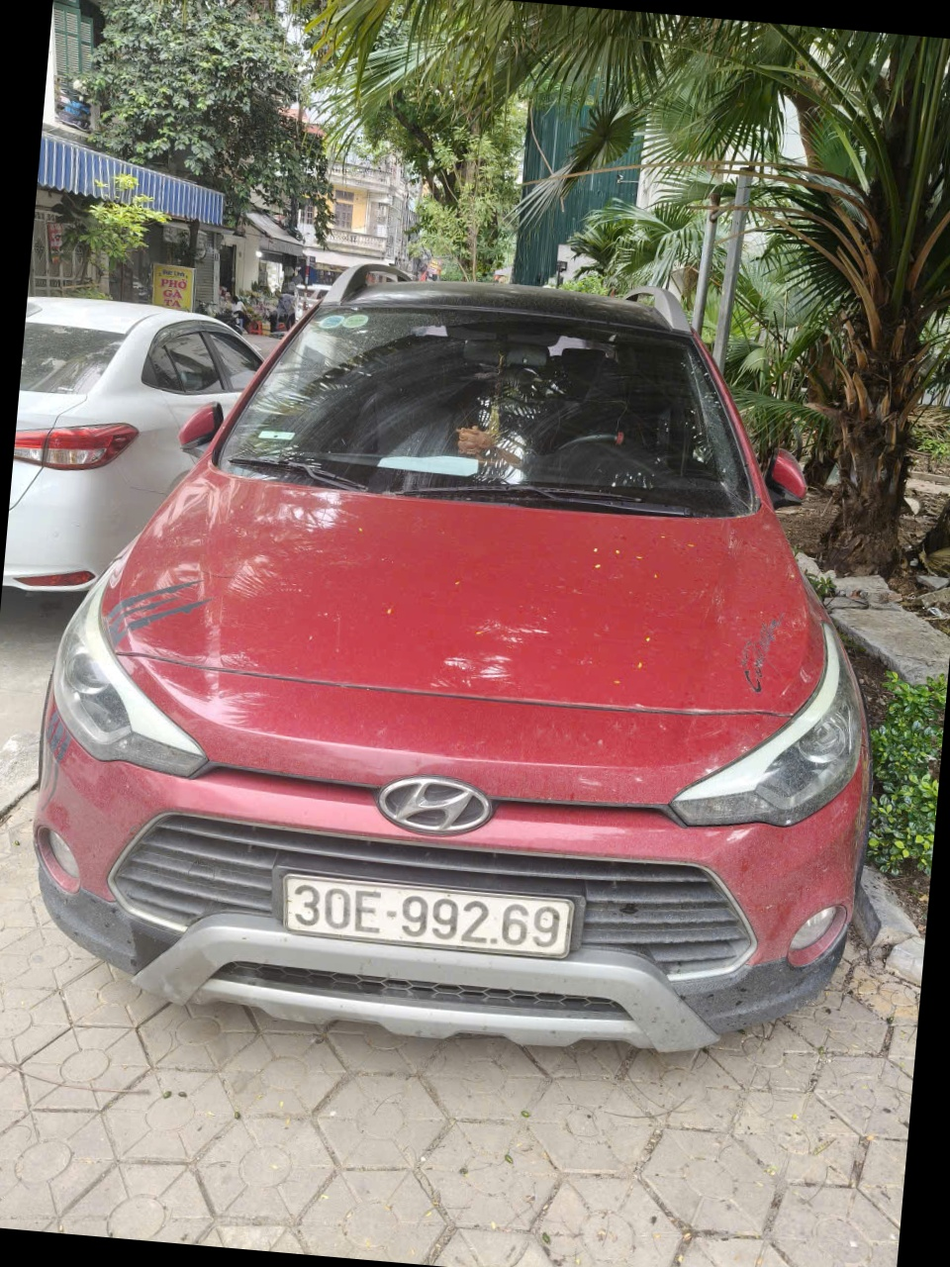plate: (111, 865, 278, 897)
